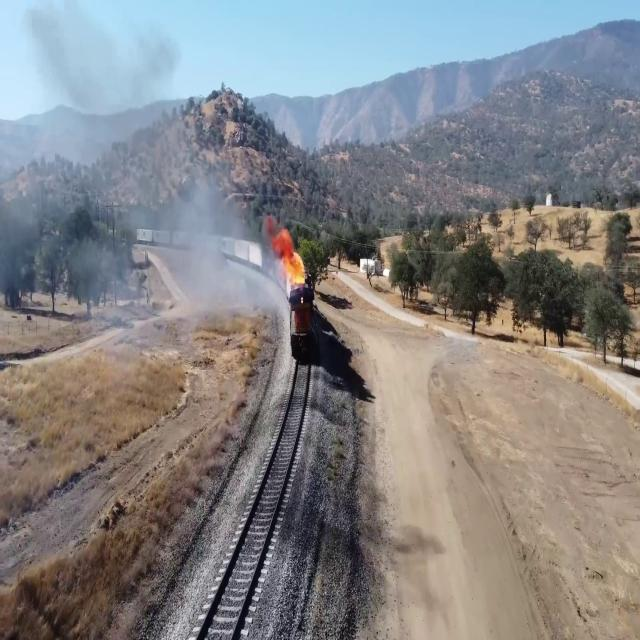Fire: (270, 229, 308, 285)
Smoke: (190, 204, 235, 322)
